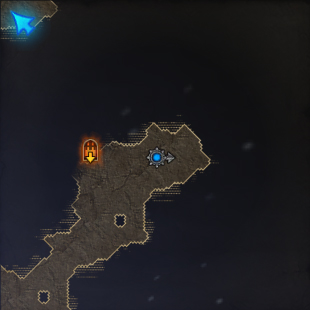Exit: (81, 138, 101, 165)
